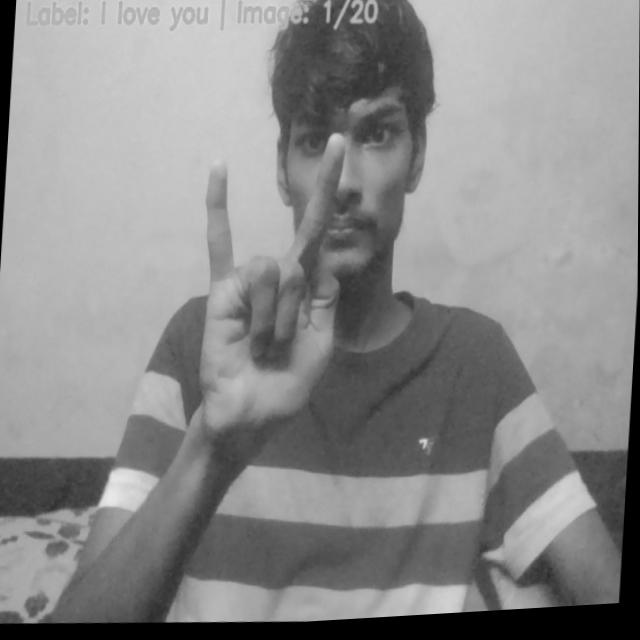I love you: (179, 127, 362, 445)
